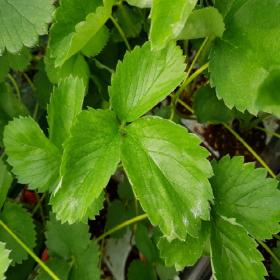Powdery Mildew Leaf: (119, 116, 215, 242), (48, 106, 120, 225), (148, 0, 198, 52)
